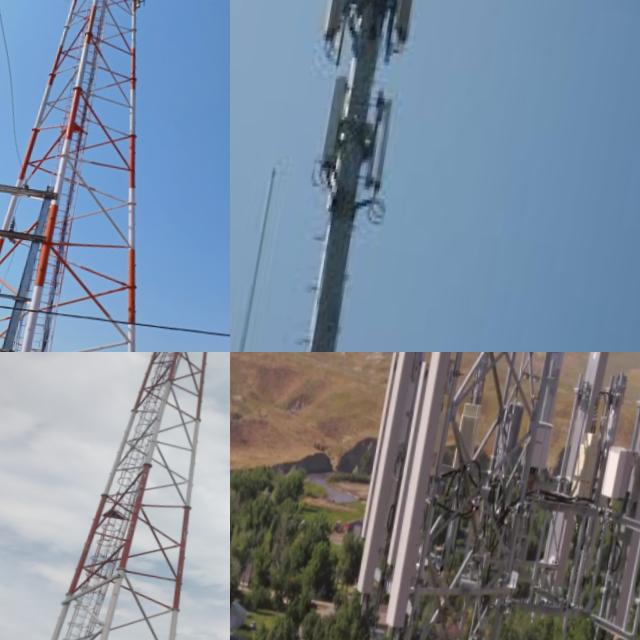GSM Antenna: (385, 352, 468, 620), (544, 352, 613, 606), (572, 353, 633, 630), (358, 352, 427, 587), (605, 352, 640, 636), (530, 352, 574, 483), (364, 87, 409, 197), (319, 72, 355, 178), (318, 0, 372, 54), (387, 0, 445, 39)
